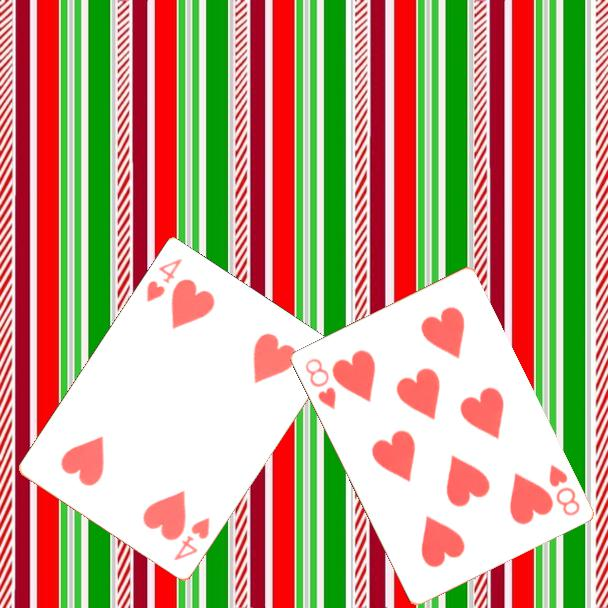h04: (170, 514, 213, 564), (143, 255, 185, 305)
h08: (301, 354, 339, 412), (545, 461, 582, 519)
